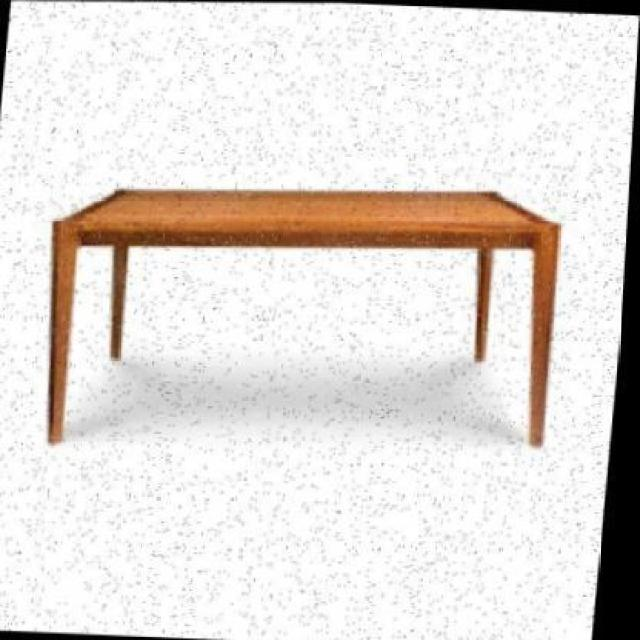tables: (46, 186, 562, 448)
